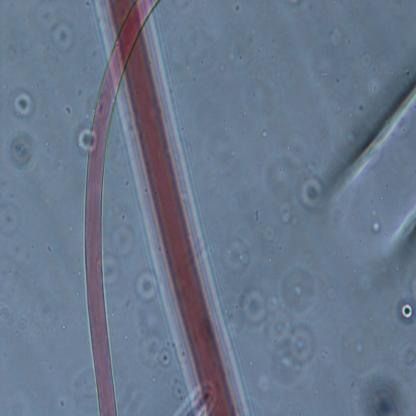Background material: (335, 87, 416, 267), (242, 268, 322, 386), (355, 364, 411, 416), (137, 302, 169, 372), (293, 173, 334, 217), (38, 6, 78, 50), (0, 203, 29, 261), (270, 152, 298, 204), (8, 128, 40, 172), (184, 41, 216, 83), (109, 217, 139, 259), (225, 233, 253, 274), (10, 83, 40, 120), (132, 269, 160, 301), (397, 290, 416, 331), (168, 368, 187, 406), (103, 253, 121, 287), (74, 129, 92, 159), (38, 301, 58, 326), (260, 219, 277, 244), (356, 50, 374, 69), (54, 396, 70, 414), (331, 32, 345, 49), (250, 209, 261, 221)
Microfibre: (104, 0, 252, 414), (84, 0, 162, 414)
